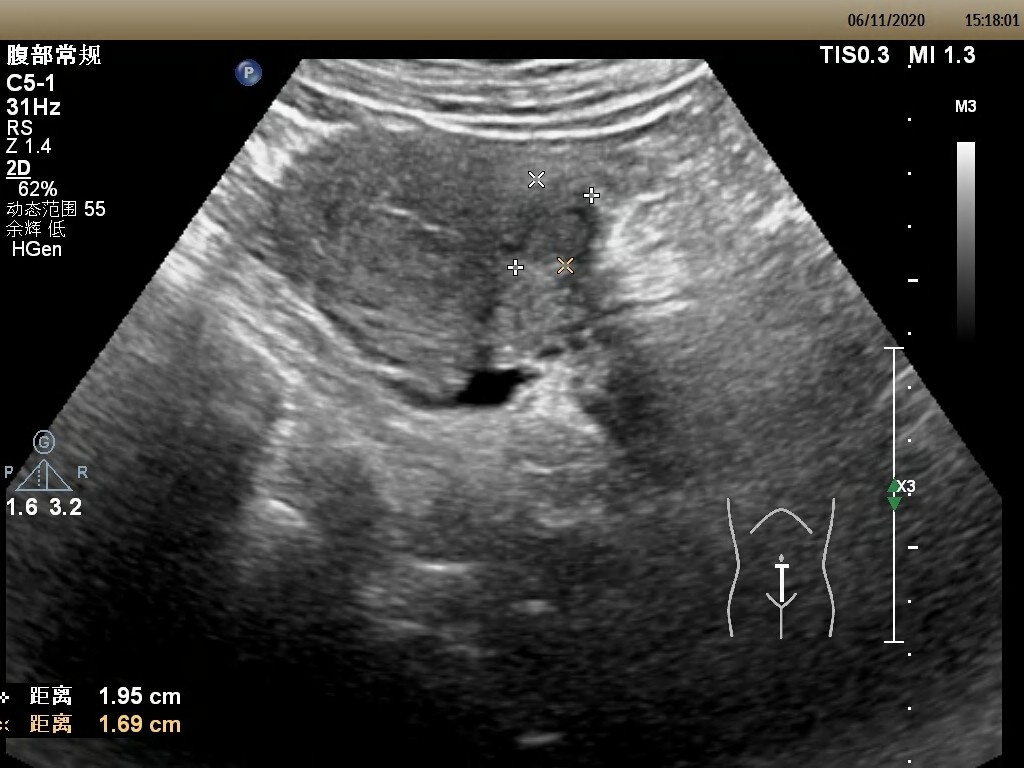肌瘤: (511, 187, 601, 269)
